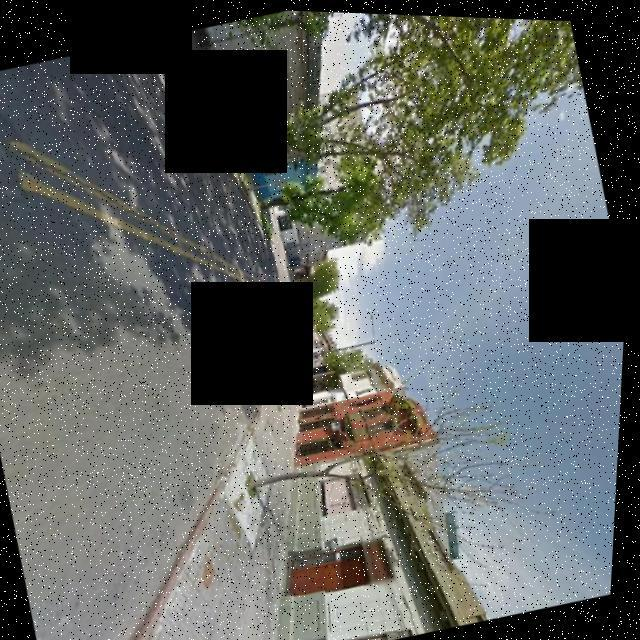bin: (197, 79, 272, 175), (275, 326, 313, 365)
